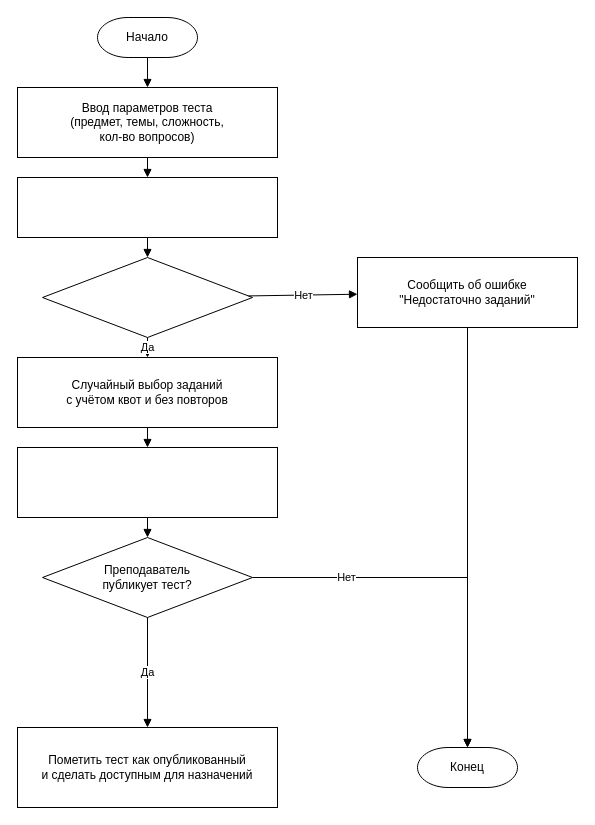
Some shapes in this 595 by 825 pixel diagram are drawn without their labels. The shapes that lost their labels are listed below. From the top down, each one's box as (x1, y1, x2, y2) in pixels, then its label:
(16, 176, 278, 238): Выбор заданий из банка по заданным параметрам
(42, 256, 252, 338): Достаточно подходящих заданий?
(16, 446, 278, 518): Сохранить тест и его состав в базе данных (статус: черновик)
